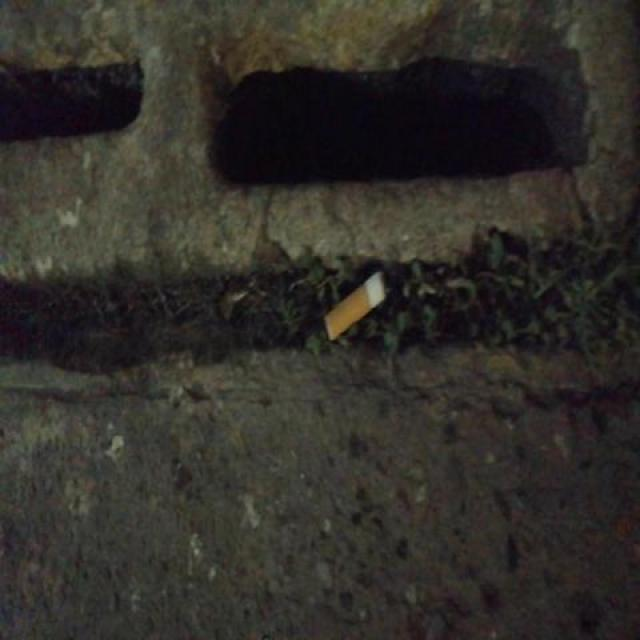non-organic waste: (318, 268, 394, 348)
